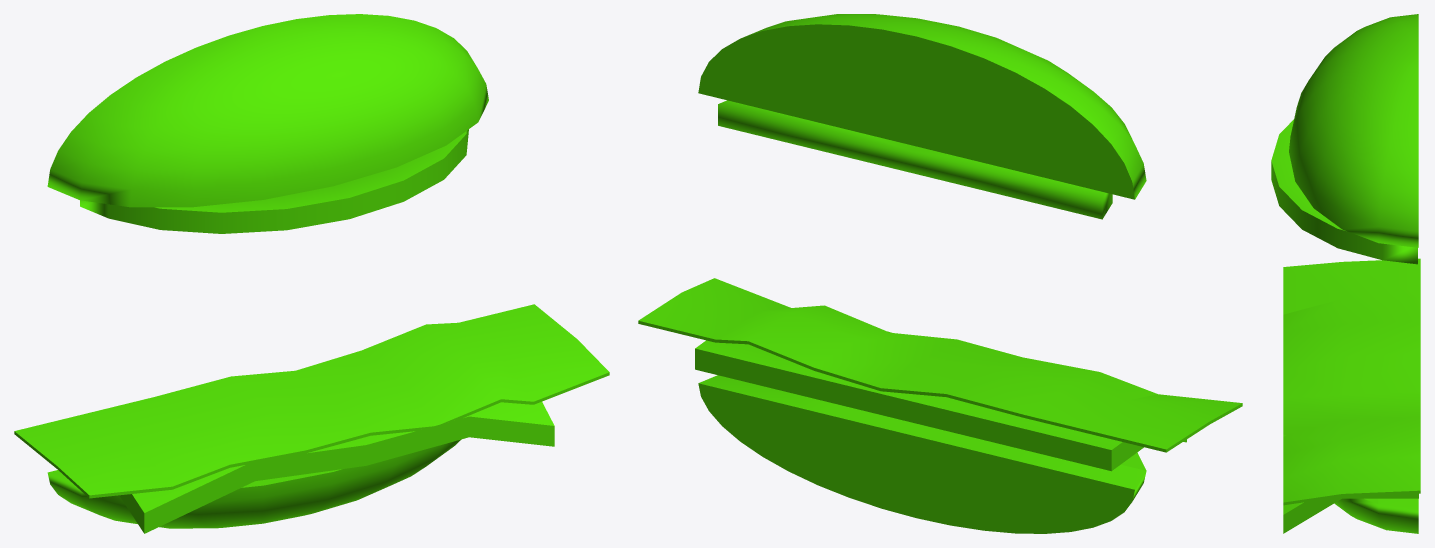
The model's file is Burger_Sign_01.fbx.
3 views of the same model, side by side, from view 1: azimuth 30°, elevation 25°; view 2: azimuth 150°, elevation 25°; view 3: azimuth 270°, elevation 25° (orthographic). The views are drawn at different scales.
Parts seen in each view (by area): view 1: Burger_Sign_01; view 2: Burger_Sign_01; view 3: Burger_Sign_01.
Part boxes in pixels (x1,y1,x2,y2): Burger_Sign_01: (14, 14, 609, 533); Burger_Sign_01: (638, 14, 1242, 533); Burger_Sign_01: (1271, 14, 1420, 533).
Bounding box in the file's own units: 568 × 495 × 155.
